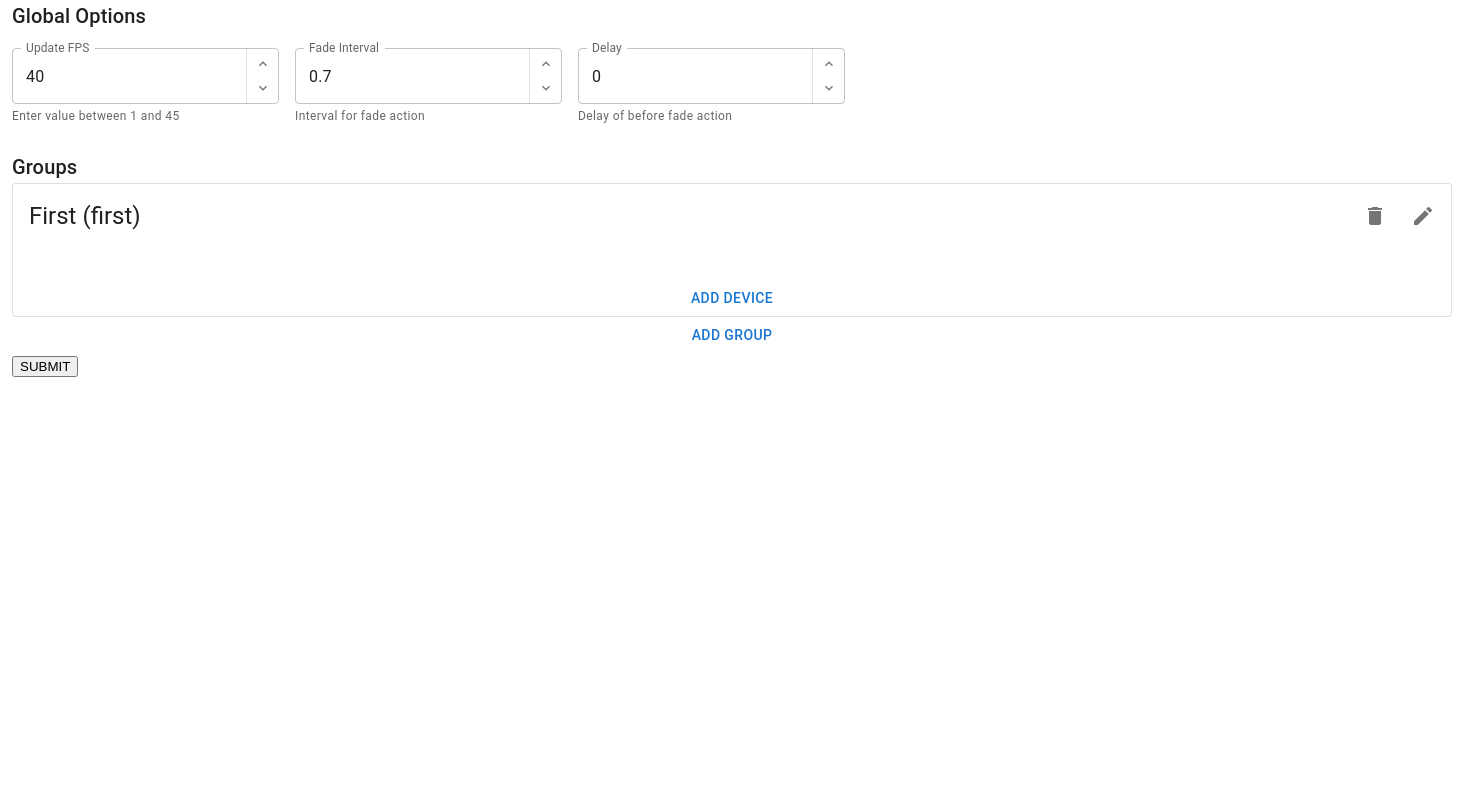
Test: Devices › Adds devices immediately without a parent watch
Click the button with test id "DeviceAddButton" at (732, 298), box [13, 280, 1451, 316]
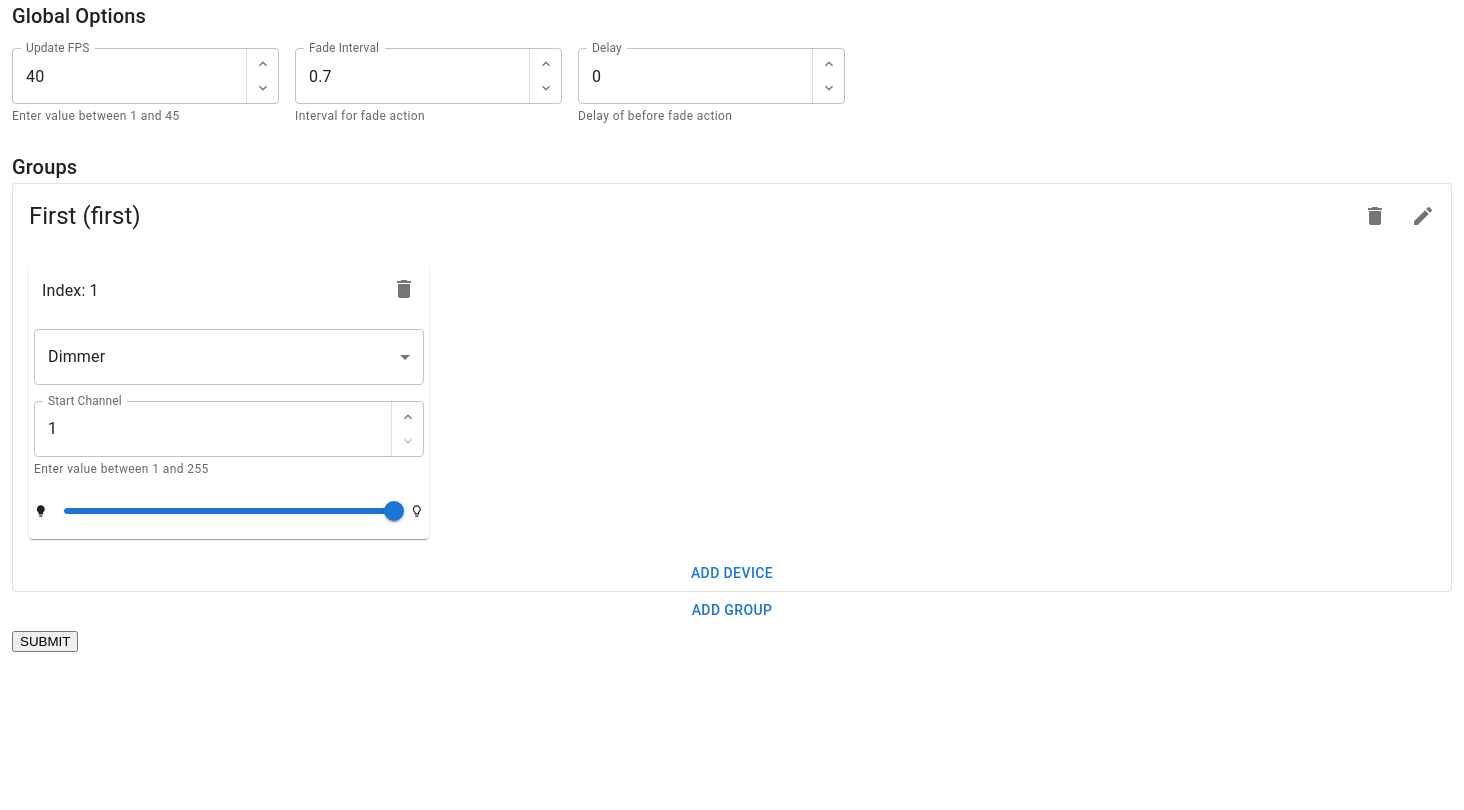
Check: the element with test id "DMXDevice" is shown, box [29, 264, 429, 539]
